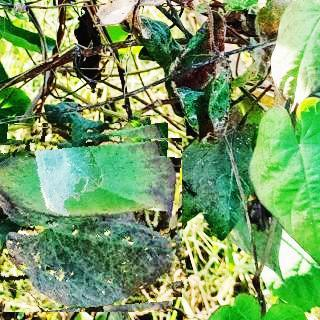leaf spot: (0, 122, 182, 312)
